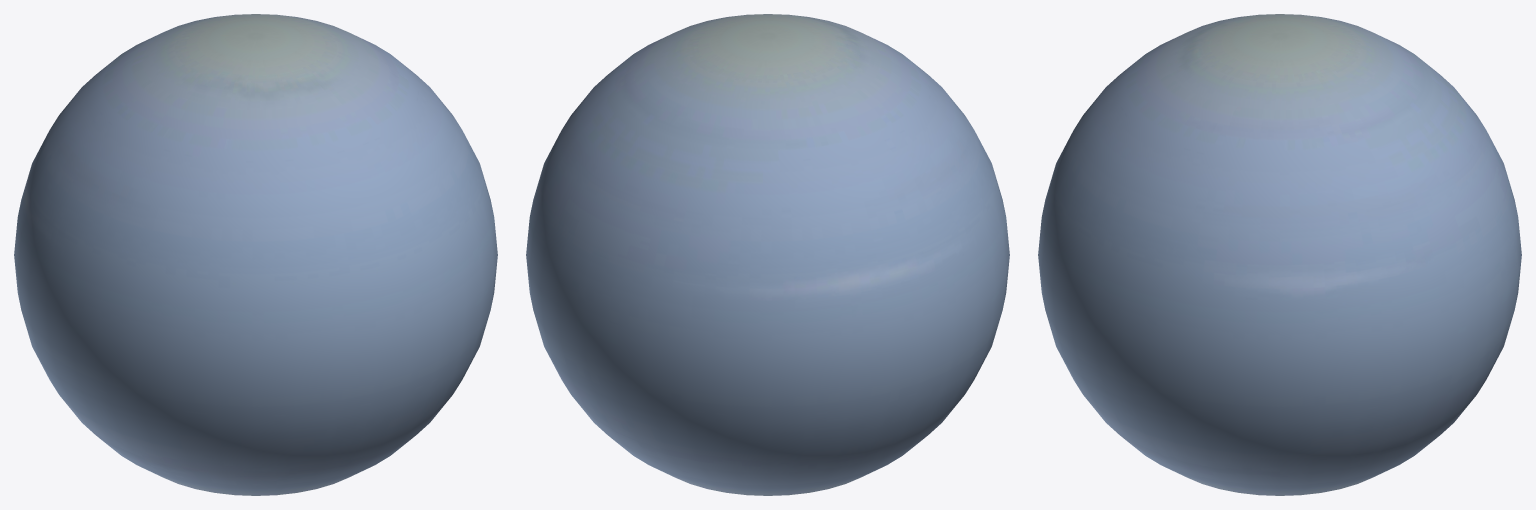
File: Uranus.FBX
3 renders of one model, left to right at view 1: azimuth 30°, elevation 25°; view 2: azimuth 150°, elevation 25°; view 3: azimuth 270°, elevation 25°, orthographic.
Parts seen in each view (by area): view 1: Sphere01; view 2: Sphere01; view 3: Sphere01.
Part boxes in pixels (box(x1,y1,x2,y2)): Sphere01: box(14, 14, 497, 495); Sphere01: box(526, 14, 1009, 495); Sphere01: box(1038, 14, 1521, 495).
Bounding box in the file's own units: 51312 × 51312 × 51312.
1 material, 1 textured.
